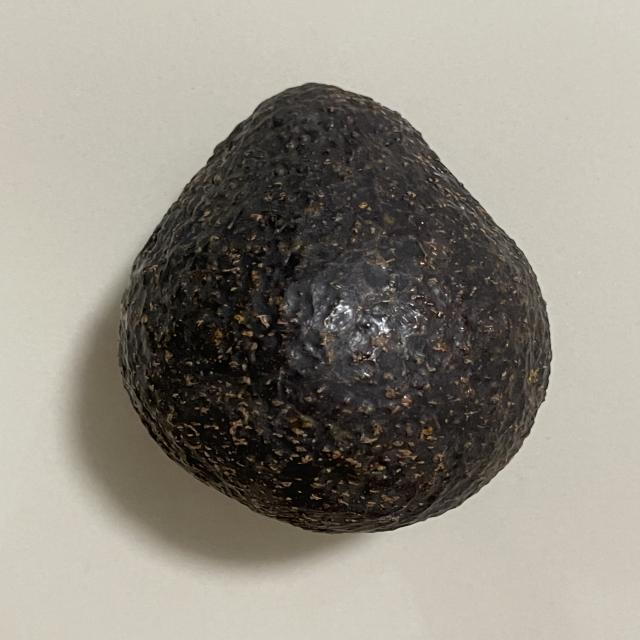Level3: (109, 75, 561, 542)
